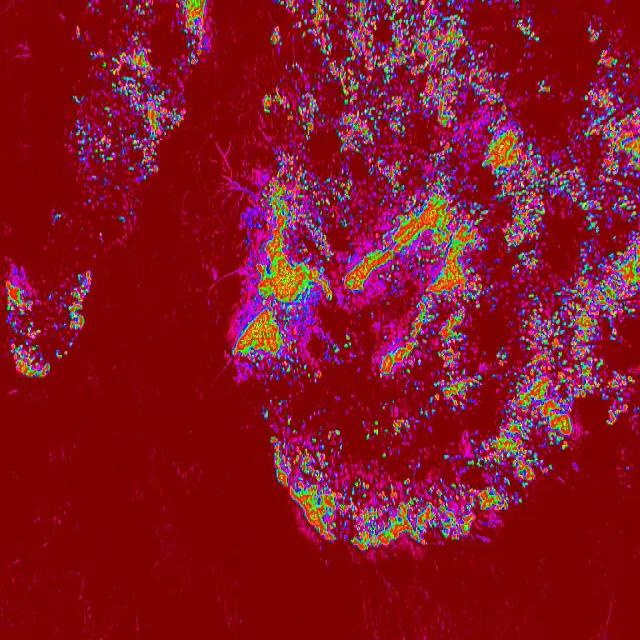fire: (236, 50, 640, 374), (265, 374, 640, 435), (274, 435, 582, 483), (69, 41, 161, 200), (271, 0, 541, 50), (302, 508, 505, 551), (289, 483, 522, 508), (2, 266, 48, 386), (172, 0, 215, 68), (61, 267, 94, 348), (161, 84, 190, 140), (584, 20, 622, 42)
